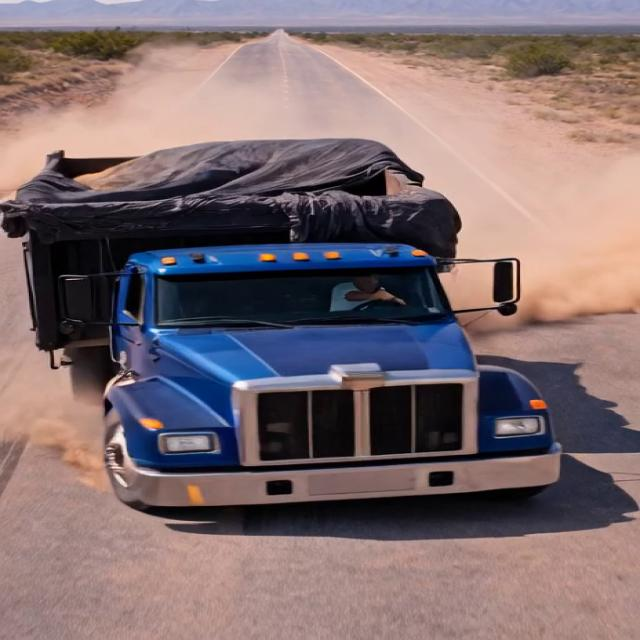trailer: (6, 134, 457, 224)
truck: (8, 94, 586, 514)
